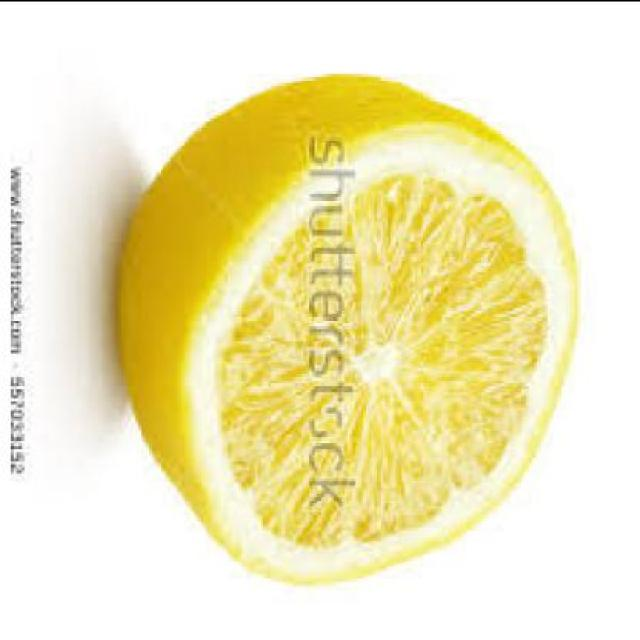BIODEGRADABLE: (121, 75, 576, 582)
